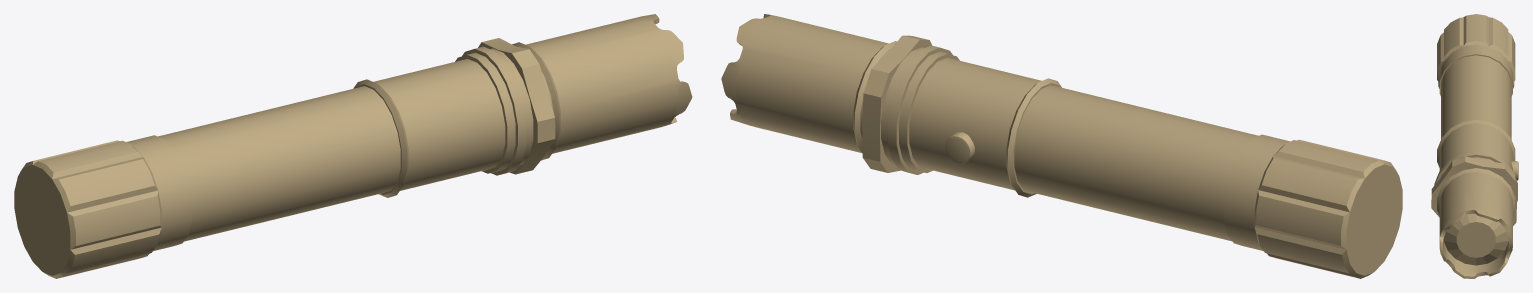
Rendered from flashlight.fbx.
3 renders of one model, left to right at view 1: azimuth 30°, elevation 25°; view 2: azimuth 150°, elevation 25°; view 3: azimuth 270°, elevation 25°, orthographic. The views are drawn at different scales.
Parts seen in each view (by area): view 1: Flashlight; view 2: Flashlight; view 3: Flashlight.
Part boxes in pixels (bbox=[...]): Flashlight: bbox=[14, 14, 692, 278]; Flashlight: bbox=[721, 14, 1402, 278]; Flashlight: bbox=[1431, 14, 1518, 278].
Size of the model in its own units: 179 by 33.87 by 33.19.
